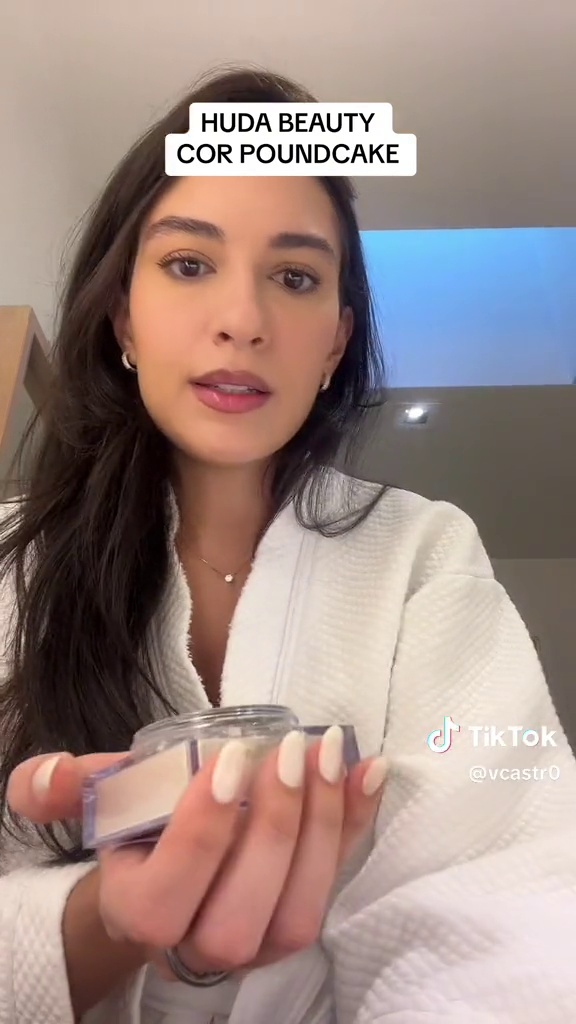train' :'yolo_data/train/images',: (73, 696, 370, 881)
